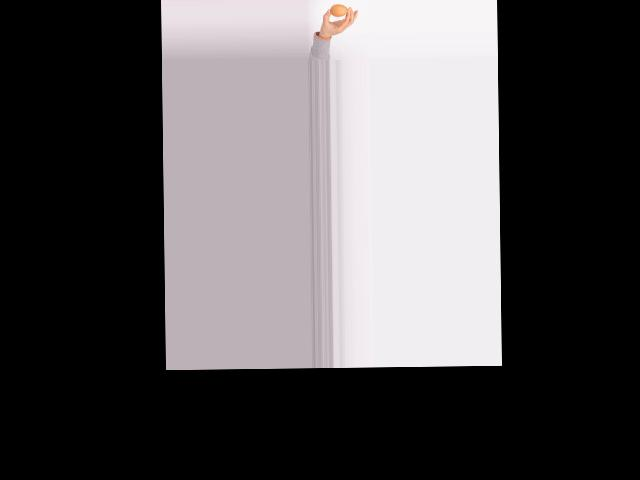egg: (330, 3, 347, 16)
